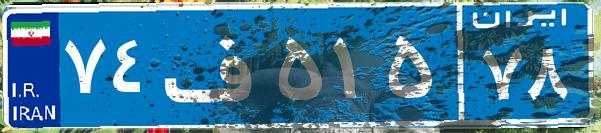1: (330, 28, 385, 110)
4: (110, 28, 158, 105)
5: (385, 28, 445, 110), (273, 28, 330, 110)
7: (57, 26, 110, 107), (475, 38, 525, 113)
8: (525, 38, 570, 115)
ف: (158, 15, 273, 115)
